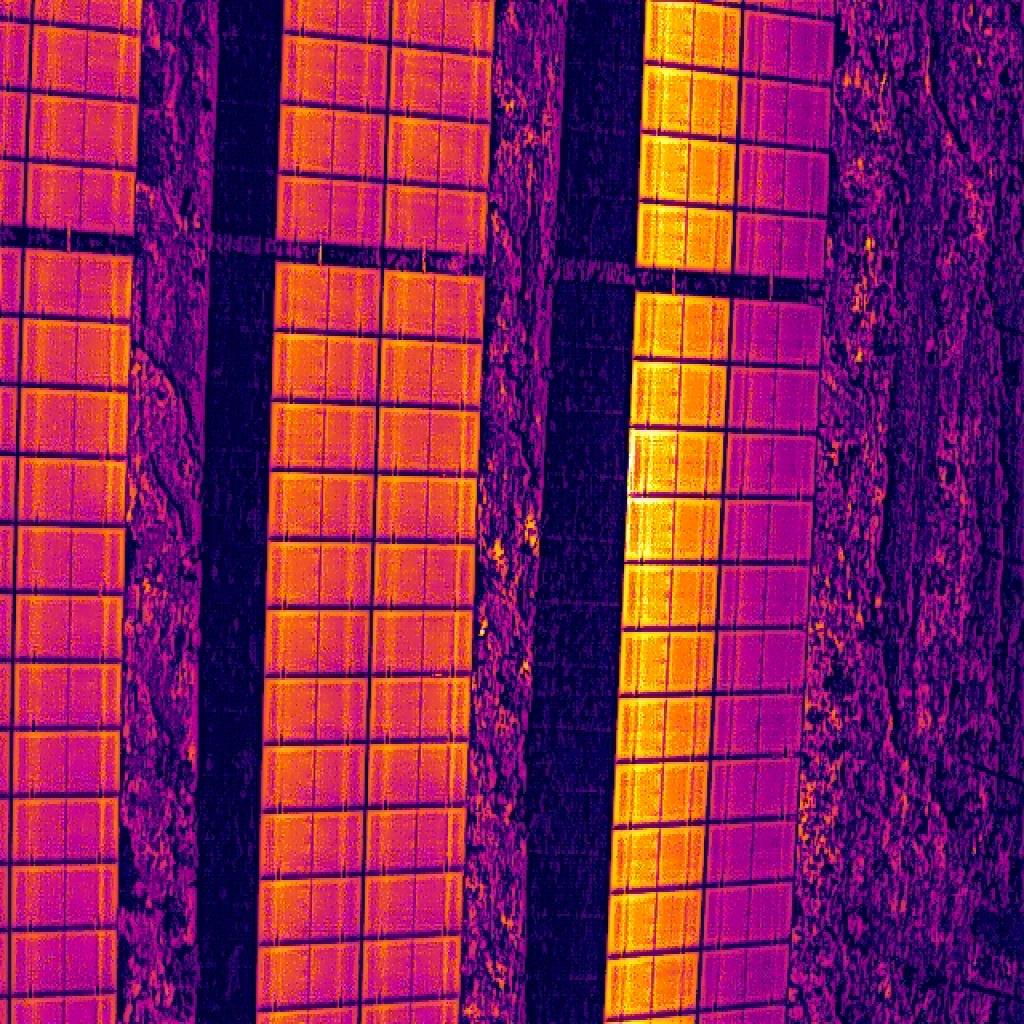panel: (388, 115, 489, 193), (379, 405, 481, 475), (605, 951, 699, 1020), (630, 429, 723, 498)
